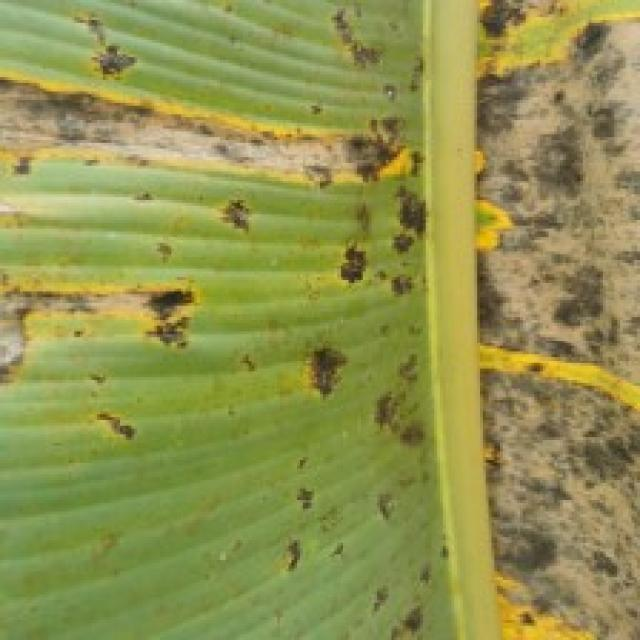Downey_mildrew: (4, 0, 640, 301), (277, 297, 640, 640), (0, 301, 277, 469)
